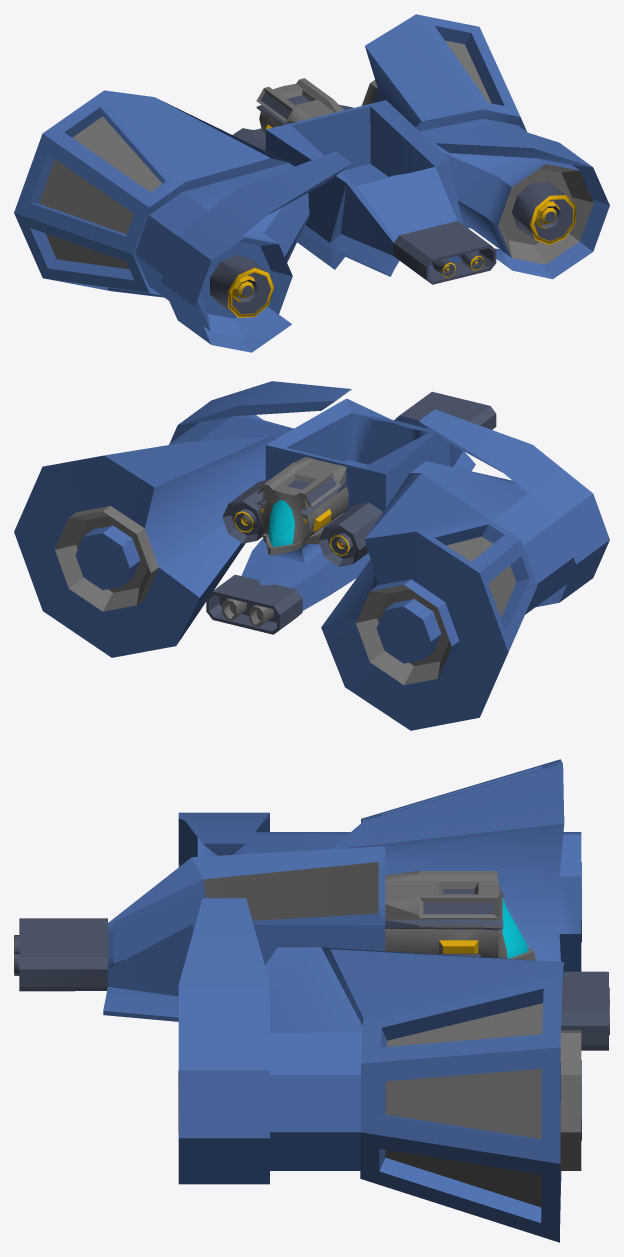
The model's file is Kashpruk_PirateShip_Base.fbx.
3 renders of one model, top to bottom at view 1: azimuth 30°, elevation 25°; view 2: azimuth 150°, elevation 25°; view 3: azimuth 270°, elevation 25°, orthographic. The views are drawn at different scales.
Parts seen in each view (by area): view 1: Pirate_Ship_Base; view 2: Pirate_Ship_Base; view 3: Pirate_Ship_Base.
Part boxes in pixels (bbox=[...]): Pirate_Ship_Base: bbox=[14, 14, 609, 352]; Pirate_Ship_Base: bbox=[14, 381, 609, 730]; Pirate_Ship_Base: bbox=[14, 759, 609, 1242].
Bounding box in the file's own units: 5852 × 2282 × 4523.
